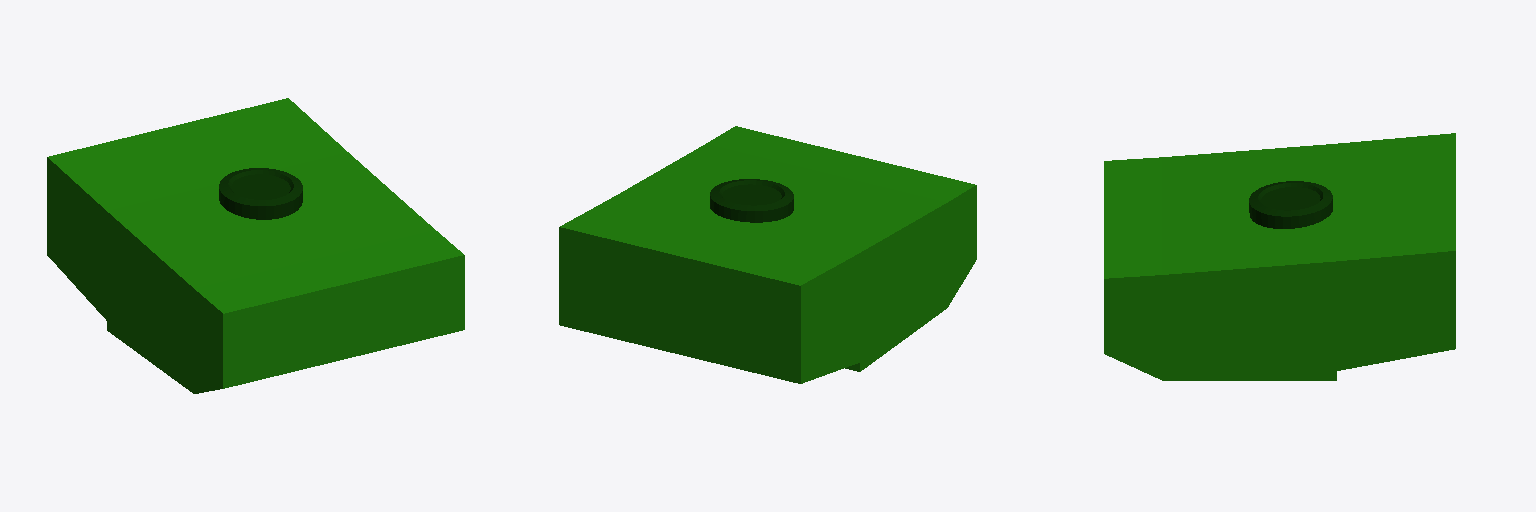
Rendered from turret.obj.
3 views of the same model, side by side, from view 1: azimuth 30°, elevation 25°; view 2: azimuth 150°, elevation 25°; view 3: azimuth 270°, elevation 25° (orthographic).
Visible parts, largest first — view 1: topoTank, Cylinder.003; view 2: topoTank, Cylinder.003; view 3: topoTank, Cylinder.003.
Boxes of the visible parts, x1,y1,x2,y2 form: topoTank: [47, 98, 464, 393]; Cylinder.003: [219, 168, 302, 219]; topoTank: [559, 126, 976, 383]; Cylinder.003: [710, 179, 793, 222]; topoTank: [1104, 133, 1455, 380]; Cylinder.003: [1249, 181, 1332, 228].
Size of the model in its own units: 3.38 by 1.76 by 4.28.